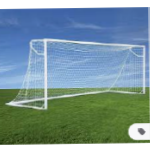goals: (4, 37, 150, 111)
